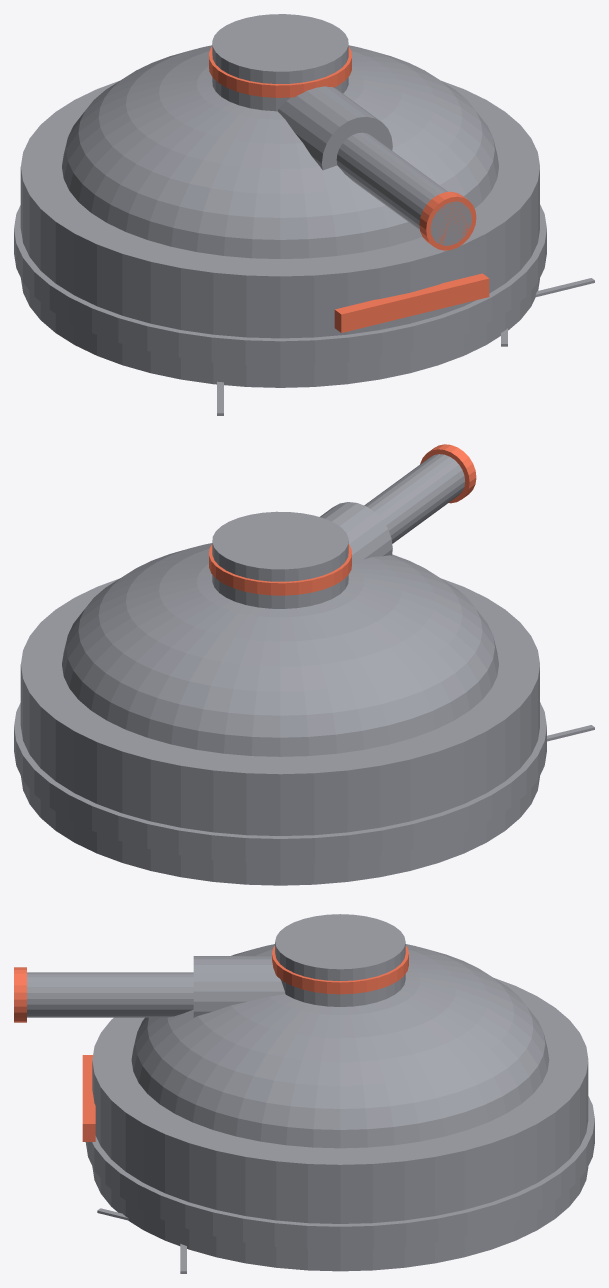
Rendered from SM_EnemyCrawler01.fbx.
3 views of the same model, one above another, from view 1: azimuth 30°, elevation 25°; view 2: azimuth 150°, elevation 25°; view 3: azimuth 270°, elevation 25° (orthographic). The views are drawn at different scales.
Parts seen in each view (by area): view 1: SM_EnemyCrawler01; view 2: SM_EnemyCrawler01; view 3: SM_EnemyCrawler01.
Boxes of the visible parts, bbox=[...] form: SM_EnemyCrawler01: bbox=[14, 14, 594, 415]; SM_EnemyCrawler01: bbox=[14, 444, 594, 885]; SM_EnemyCrawler01: bbox=[14, 914, 594, 1273].
Bounding box in the file's own units: 156 × 76 × 178.
